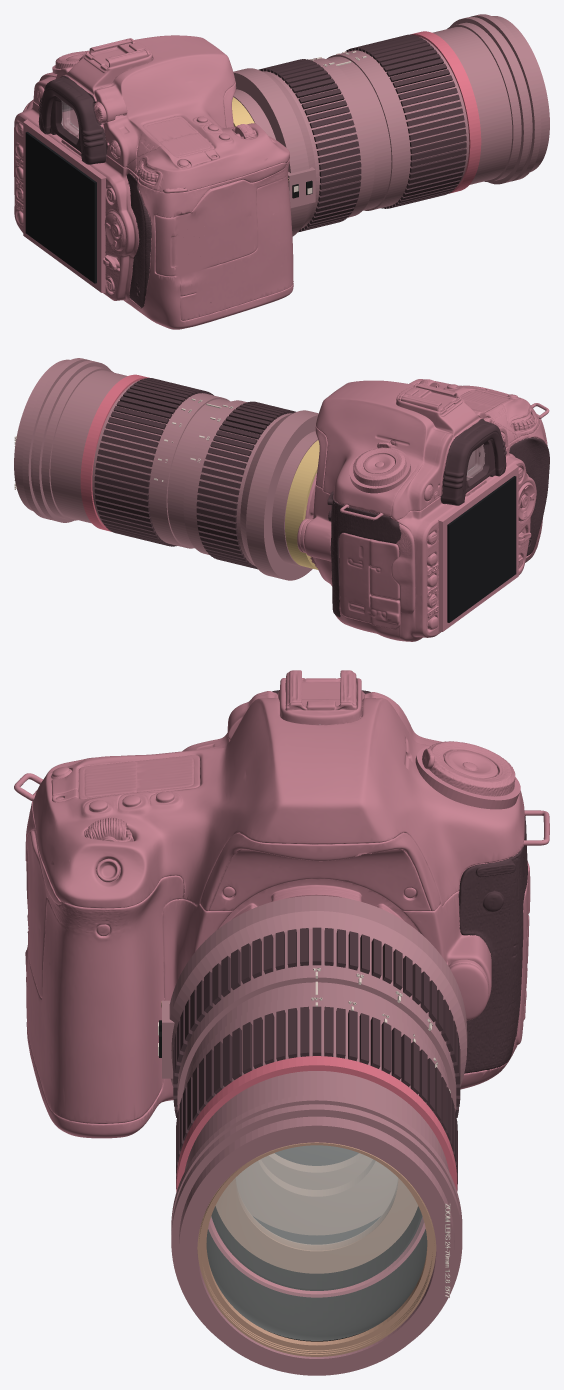
Rendered from camera.glb.
3 views of the same model, one above another, from view 1: azimuth 30°, elevation 25°; view 2: azimuth 150°, elevation 25°; view 3: azimuth 270°, elevation 25° (orthographic). The views are drawn at different scales.
Visible parts, largest first — view 1: Shell_cam, Shell_body, Ring_focus, Ring_zoom, Glass_vf; view 2: Shell_cam, Shell_body, Ring_focus, Ring_zoom, Ring_dial, Glass_vf; view 3: Shell_cam, Shell_body, Glass_front, Core_g3, Ring_zoom, Ring_focus, Core_g2, Ring_dial, Core_g1.
Boxes of the visible parts, box(x1,y1,x2,y2) form: Shell_cam: box(14, 35, 293, 329); Shell_body: box(232, 14, 549, 236); Ring_focus: box(327, 34, 469, 210); Ring_zoom: box(258, 57, 374, 232); Glass_vf: box(61, 101, 78, 138); Shell_cam: box(297, 379, 549, 641); Shell_body: box(14, 358, 319, 580); Ring_focus: box(92, 378, 229, 548); Ring_zoom: box(183, 400, 295, 569); Ring_dial: box(353, 442, 406, 486); Glass_vf: box(467, 444, 484, 480); Shell_cam: box(14, 670, 549, 1138); Shell_body: box(158, 895, 467, 1375); Glass_front: box(206, 1145, 426, 1340); Core_g3: box(215, 1145, 417, 1273); Ring_zoom: box(173, 927, 460, 1118); Ring_focus: box(176, 995, 457, 1220); Core_g2: box(236, 1159, 397, 1234); Ring_dial: box(422, 741, 515, 796); Core_g1: box(261, 1153, 372, 1189).
Bounding box in the file's own units: 0.2446 × 0.1144 × 0.148.
